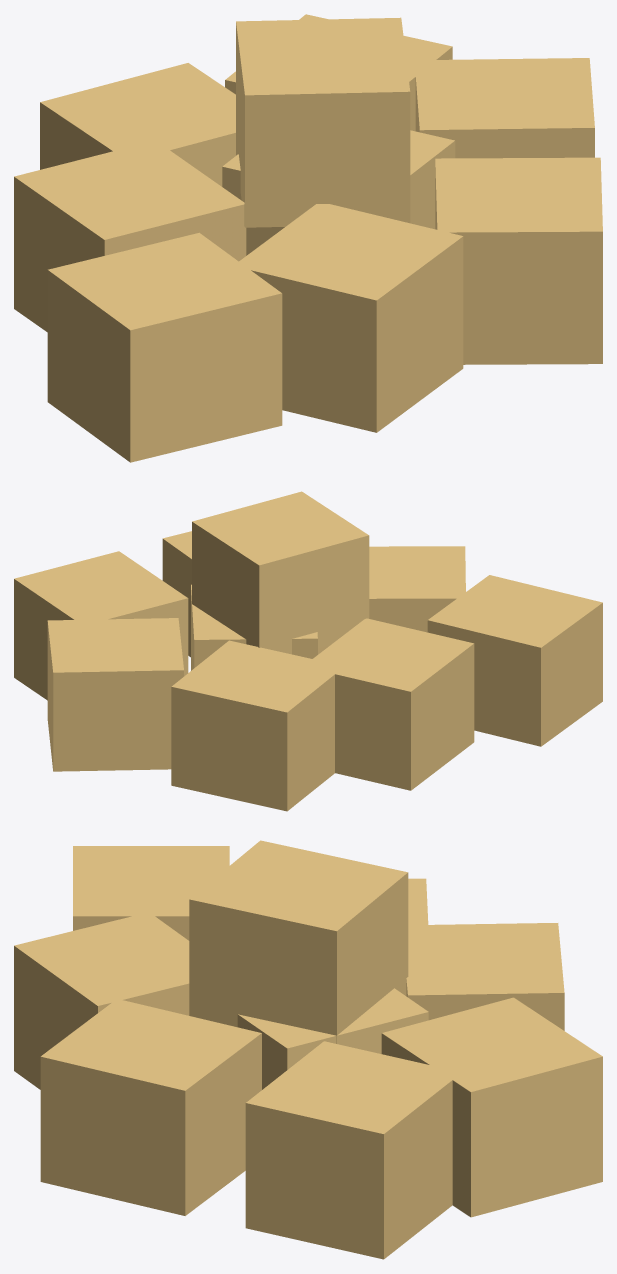
Rendered from FTF_Ingredient_Chopped_Potato.glb.
3 renders of one model, top to bottom at view 1: azimuth 30°, elevation 25°; view 2: azimuth 150°, elevation 25°; view 3: azimuth 270°, elevation 25°, orthographic. The views are drawn at different scales.
Parts seen in each view (by area): view 1: Potato_Piece_00; view 2: Potato_Piece_00; view 3: Potato_Piece_00.
Boxes of the visible parts, x1=… form: Potato_Piece_00: x1=14, y1=14, x2=602, y2=462; Potato_Piece_00: x1=14, y1=491, x2=602, y2=811; Potato_Piece_00: x1=14, y1=840, x2=602, y2=1259.
Bounding box in the file's own units: 0.7395 × 0.275 × 0.6389.
